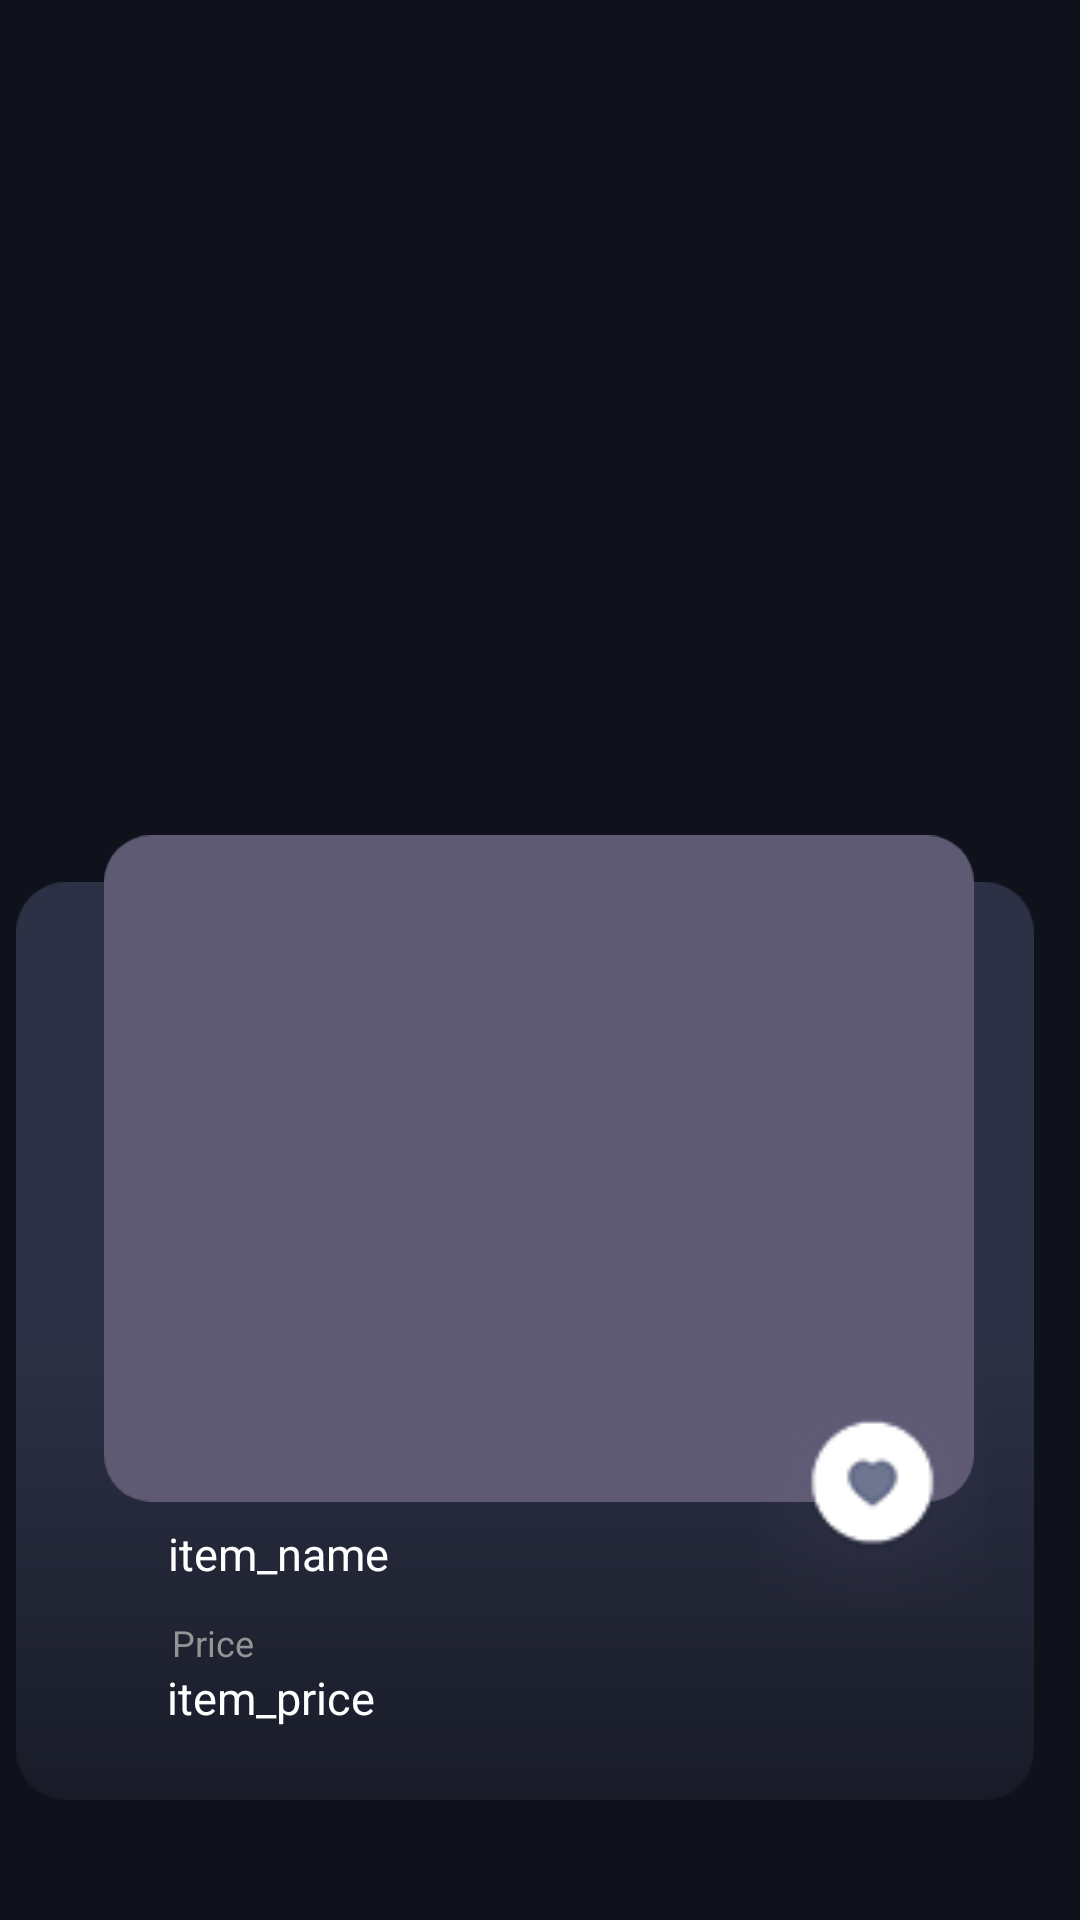

Locate icon controls on the screen. Image size 1080w x 1920h, boxes as (x1, y1, x2, y2).
favfavpng: (754, 1380, 974, 1545)
